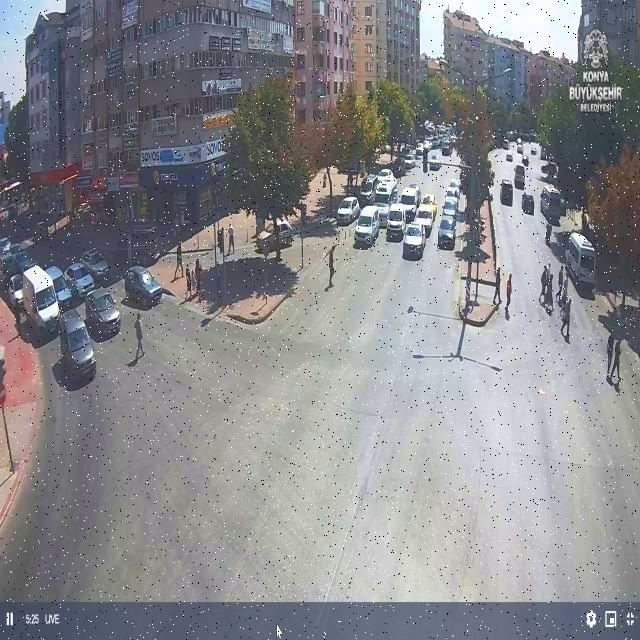Bus: (565, 232, 595, 287), (541, 187, 563, 221)
Car: (59, 309, 96, 379), (86, 288, 121, 336), (125, 266, 162, 306), (44, 265, 76, 308), (76, 250, 112, 284), (258, 219, 294, 253), (64, 262, 96, 299), (354, 205, 382, 245), (402, 224, 427, 259), (415, 195, 437, 232), (386, 203, 408, 238), (336, 197, 362, 226), (399, 185, 421, 219), (7, 273, 25, 309), (437, 217, 457, 249), (358, 174, 380, 203), (373, 200, 393, 225), (442, 195, 460, 219), (500, 180, 513, 205), (521, 192, 535, 215), (445, 184, 461, 202), (393, 158, 408, 177), (402, 151, 416, 169)
Van: (20, 265, 60, 335)
